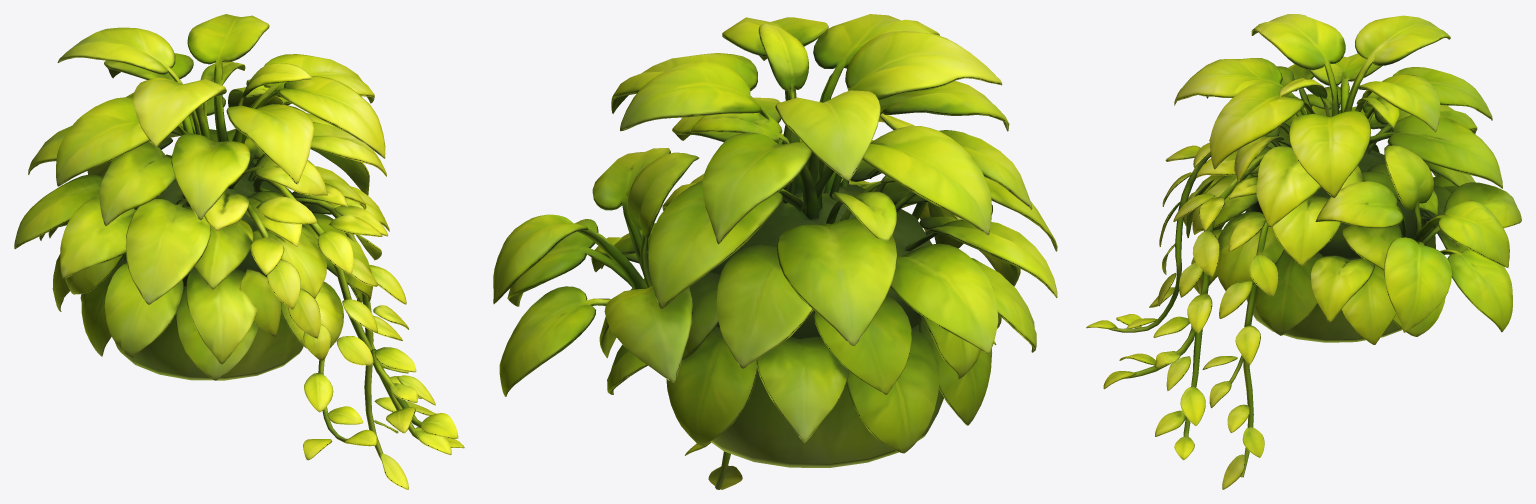
Rendered from AquariumPlant.fbx.
3 views of the same model, side by side, from view 1: azimuth 30°, elevation 25°; view 2: azimuth 150°, elevation 25°; view 3: azimuth 270°, elevation 25° (orthographic). The views are drawn at different scales.
Parts seen in each view (by area): view 1: tripo_node_825bc87f; view 2: tripo_node_825bc87f; view 3: tripo_node_825bc87f.
Boxes of the visible parts, <box> form: tripo_node_825bc87f: <box>14,14,464,489</box>; tripo_node_825bc87f: <box>493,14,1057,489</box>; tripo_node_825bc87f: <box>1086,14,1521,489</box>.
Bounding box in the file's own units: 0.8726 × 0.9731 × 0.9995.
Materials: 1 (1 with a texture image).
